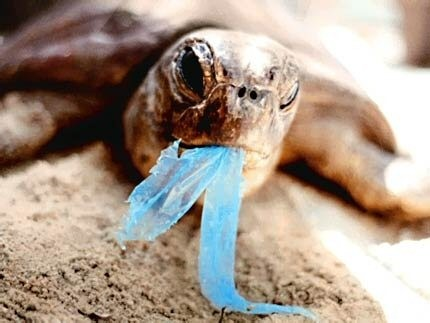litter: (101, 135, 339, 317)
